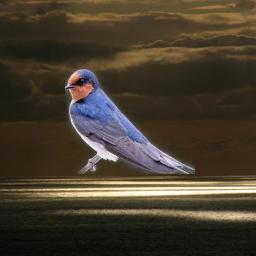Swallow: (65, 69, 195, 174)
